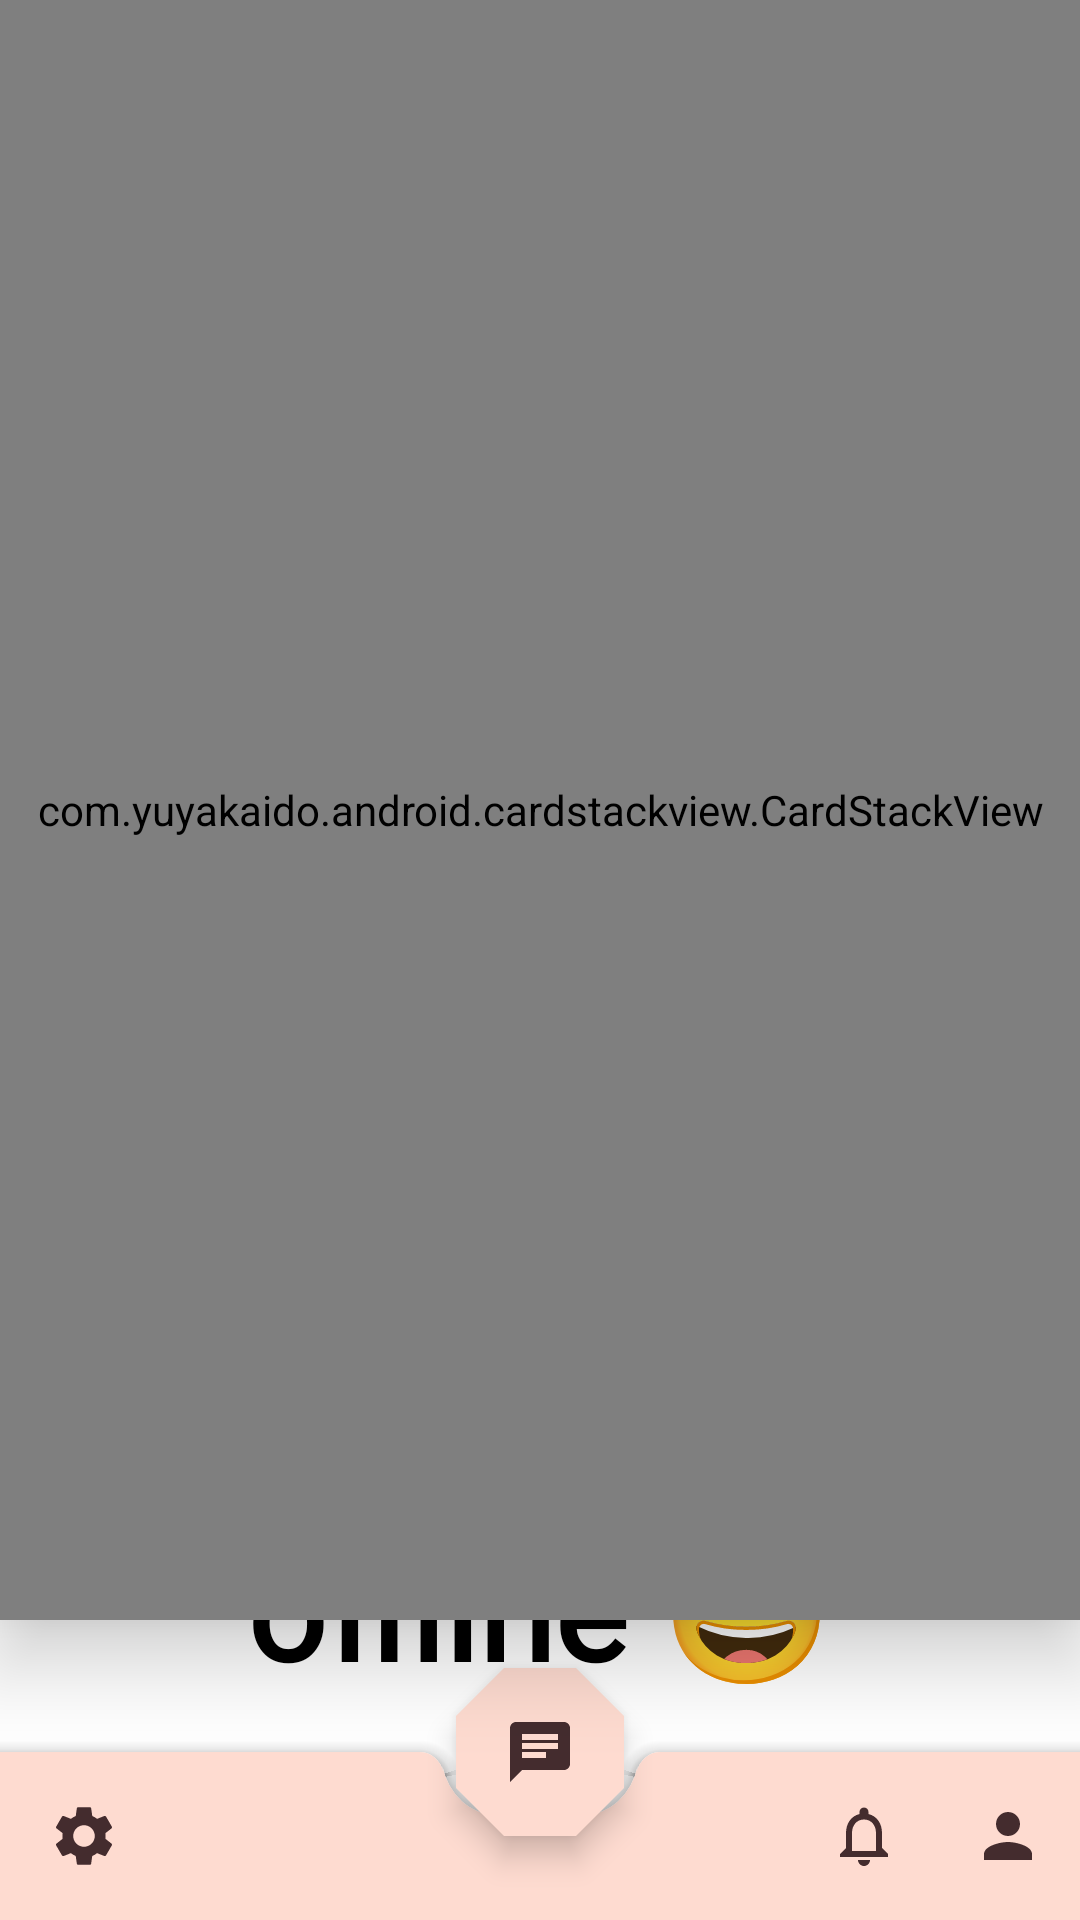

Icon click points for this 1080w x 1920h phone screenshot, format point (x, y):
chat: point (540, 1752)
